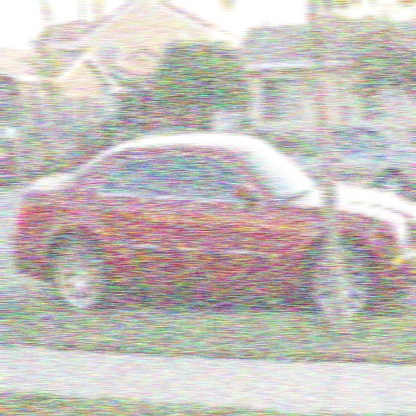Vehicle: (12, 127, 416, 316)
